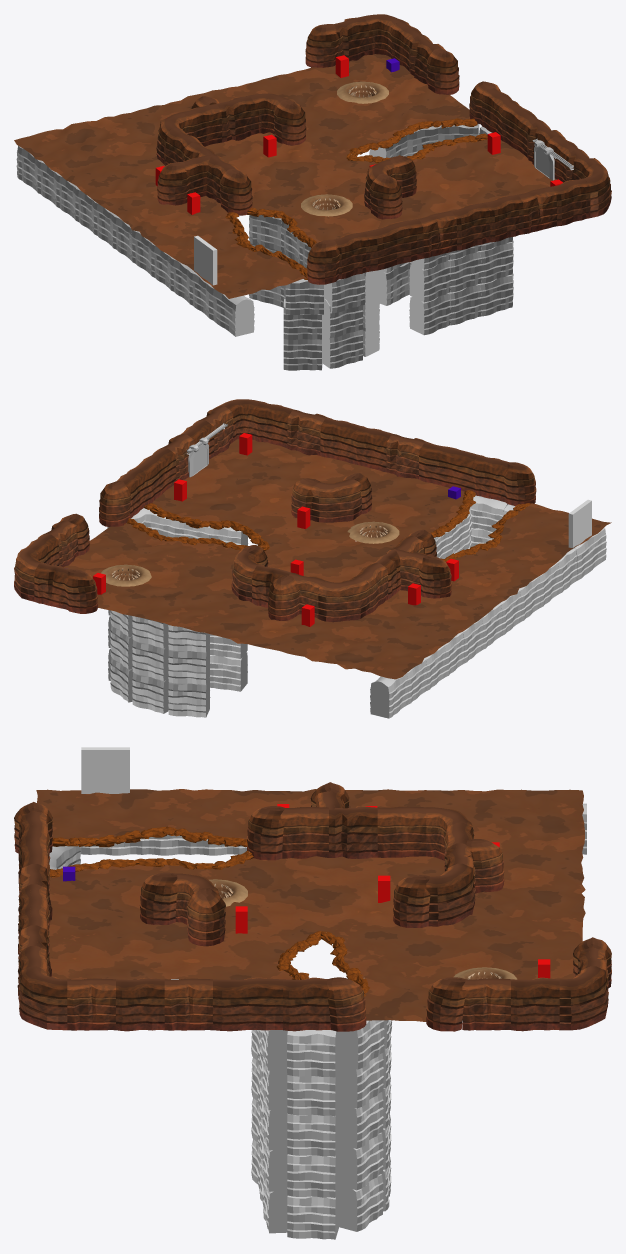
File: Level1_Room2_Collapsed2.fbx
The picture shows the model from 3 angles, top to bottom: view 1: azimuth 30°, elevation 25°; view 2: azimuth 150°, elevation 25°; view 3: azimuth 270°, elevation 25°; orthographic projection. The views are drawn at different scales.
Parts seen in each view (by area): view 1: Plane074, level1_wall027, level1_wall033, GeoSphere003, Base001, GeoSphere005, Box003, Box013, level1_door; view 2: Plane074, level1_wall027, level1_wall033, Box003, GeoSphere003, Base001, GeoSphere005, Box013, level1_door; view 3: Plane074, level1_wall027, level1_wall033, GeoSphere003, Box013, GeoSphere005, Base001, Box003.
Part boxes in pixels (x1,y1,x2,y2): Plane074: [14, 54, 557, 298]; level1_wall027: [156, 14, 611, 284]; level1_wall033: [16, 124, 513, 370]; GeoSphere003: [229, 118, 487, 274]; Base001: [301, 81, 388, 216]; GeoSphere005: [225, 118, 476, 279]; Box003: [155, 55, 562, 214]; Box013: [194, 235, 217, 285]; level1_door: [534, 140, 554, 180]; Plane074: [64, 439, 611, 679]; level1_wall027: [14, 399, 536, 622]; level1_wall033: [107, 495, 606, 718]; Box003: [93, 433, 458, 626]; GeoSphere003: [127, 492, 525, 561]; Base001: [101, 521, 399, 586]; GeoSphere005: [124, 490, 530, 561]; Box013: [568, 499, 591, 549]; level1_door: [188, 437, 208, 477]; Plane074: [36, 789, 585, 1021]; level1_wall027: [14, 782, 611, 1031]; level1_wall033: [49, 803, 586, 1239]; GeoSphere003: [52, 826, 369, 993]; Box013: [81, 747, 129, 793]; GeoSphere005: [49, 827, 366, 996]; Base001: [209, 879, 517, 979]; Box003: [235, 804, 550, 978].
Size of the model in its own units: 1858 by 916 by 1939.
